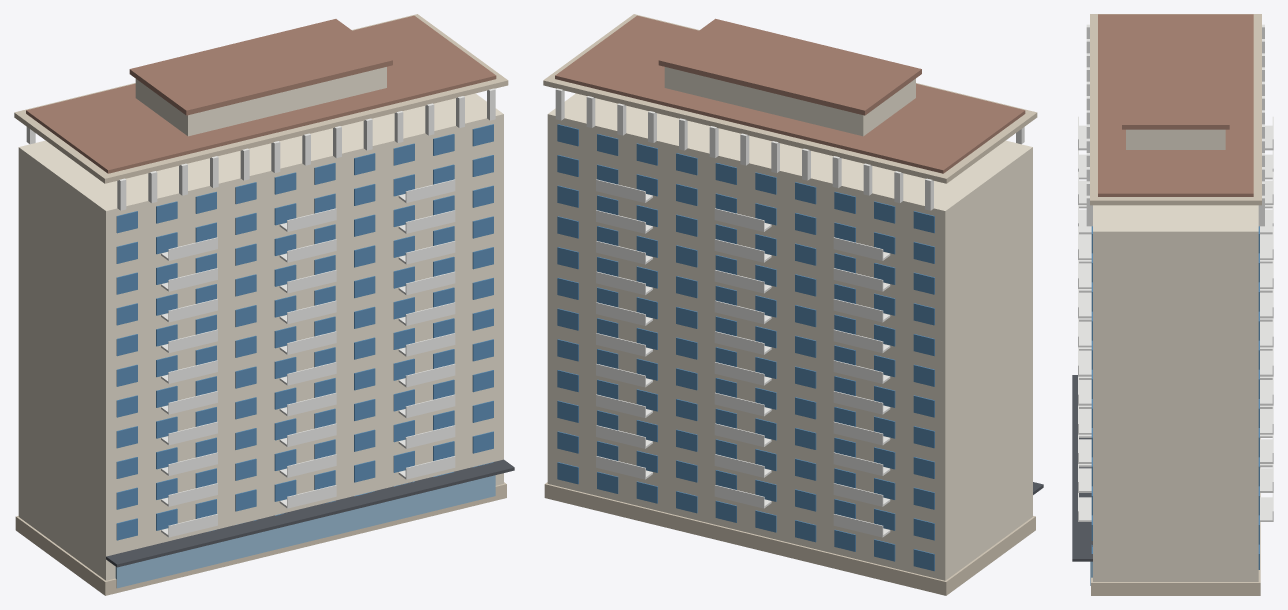
The model's file is lux_res_c.glb.
3 renders of one model, left to right at view 1: azimuth 30°, elevation 25°; view 2: azimuth 150°, elevation 25°; view 3: azimuth 270°, elevation 25°, orthographic. The views are drawn at different scales.
Visible parts, largest first — view 1: stone, glass, roof, white, stone_dark, glass_light, dark; view 2: stone, glass, roof, white, stone_dark; view 3: stone, roof, white, stone_dark, dark, glass.
Boxes of the visible parts, bbox=[...] form: stone: bbox=[18, 67, 503, 580]; glass: bbox=[116, 124, 493, 540]; roof: bbox=[26, 15, 496, 173]; white: bbox=[26, 88, 495, 537]; stone_dark: bbox=[14, 14, 508, 595]; glass_light: bbox=[115, 475, 495, 588]; dark: bbox=[106, 459, 514, 567]; stone: bbox=[547, 67, 1032, 580]; glass: bbox=[557, 124, 934, 571]; roof: bbox=[555, 15, 1025, 173]; white: bbox=[555, 88, 1024, 537]; stone_dark: bbox=[543, 14, 1037, 595]; stone: bbox=[1093, 129, 1258, 581]; roof: bbox=[1098, 14, 1253, 196]; white: bbox=[1078, 24, 1273, 521]; stone_dark: bbox=[1090, 14, 1261, 595]; dark: bbox=[1072, 375, 1092, 561]; glass: bbox=[1091, 226, 1259, 569].
Bounding box in the file's own units: 42.6 × 45.35 × 19.45.
